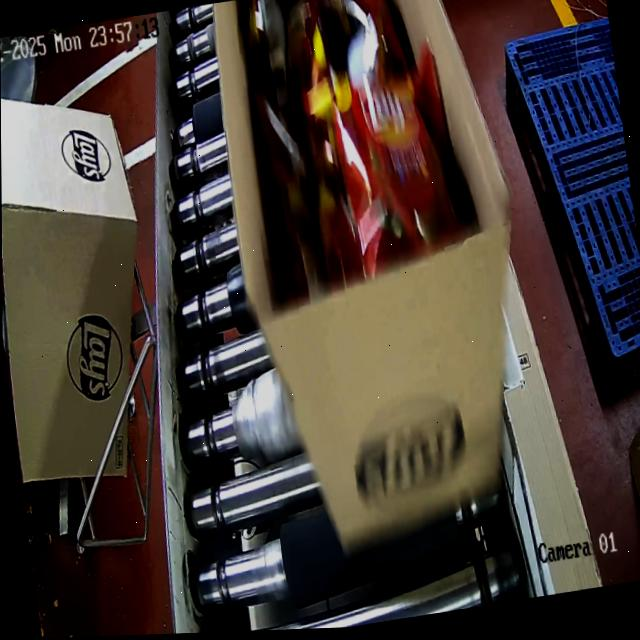MASALA: (241, 0, 453, 294)
